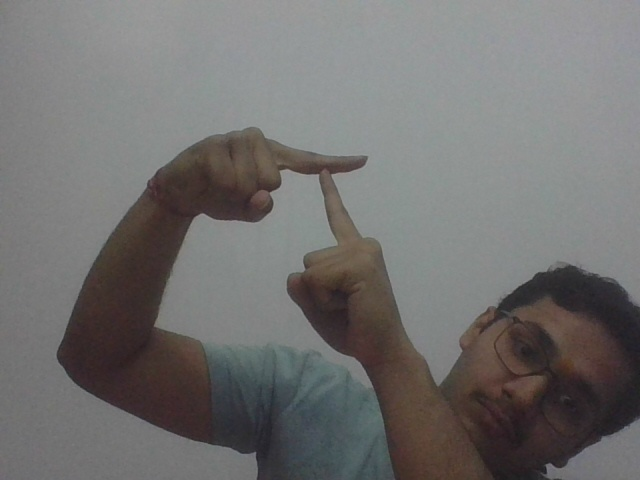T: (199, 117, 428, 345)
